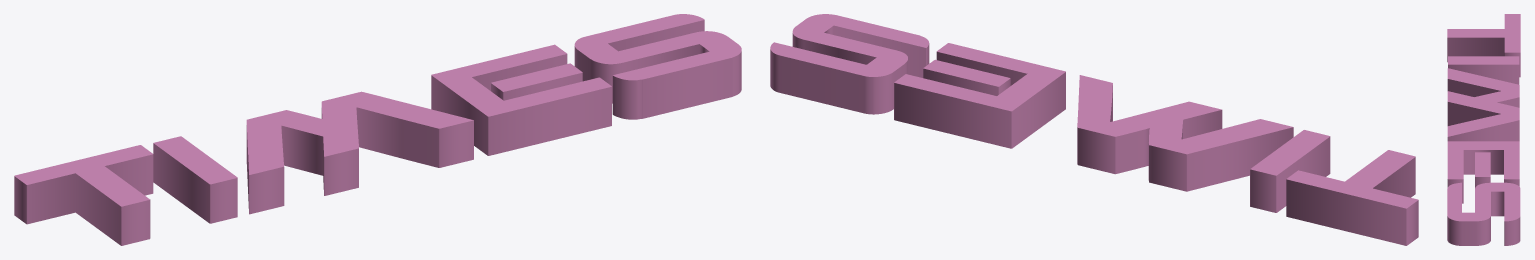
File: times.dae
3 views of the same model, side by side, from view 1: azimuth 30°, elevation 25°; view 2: azimuth 150°, elevation 25°; view 3: azimuth 270°, elevation 25° (orthographic). The views are drawn at different scales.
Parts seen in each view (by area): view 1: times; view 2: times; view 3: times.
Boxes of the visible parts, bbox=[...] form: times: bbox=[14, 14, 741, 245]; times: bbox=[770, 14, 1418, 245]; times: bbox=[1447, 14, 1520, 245].
Size of the model in its own units: 2.92 by 0.4381 by 0.162.
